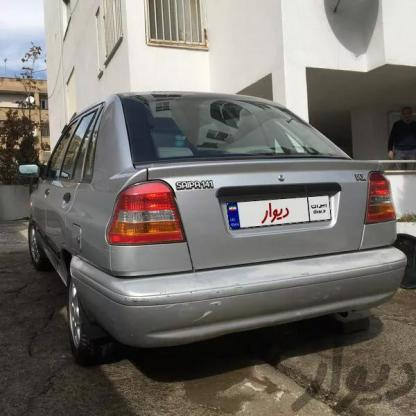Car: (16, 91, 412, 360)
